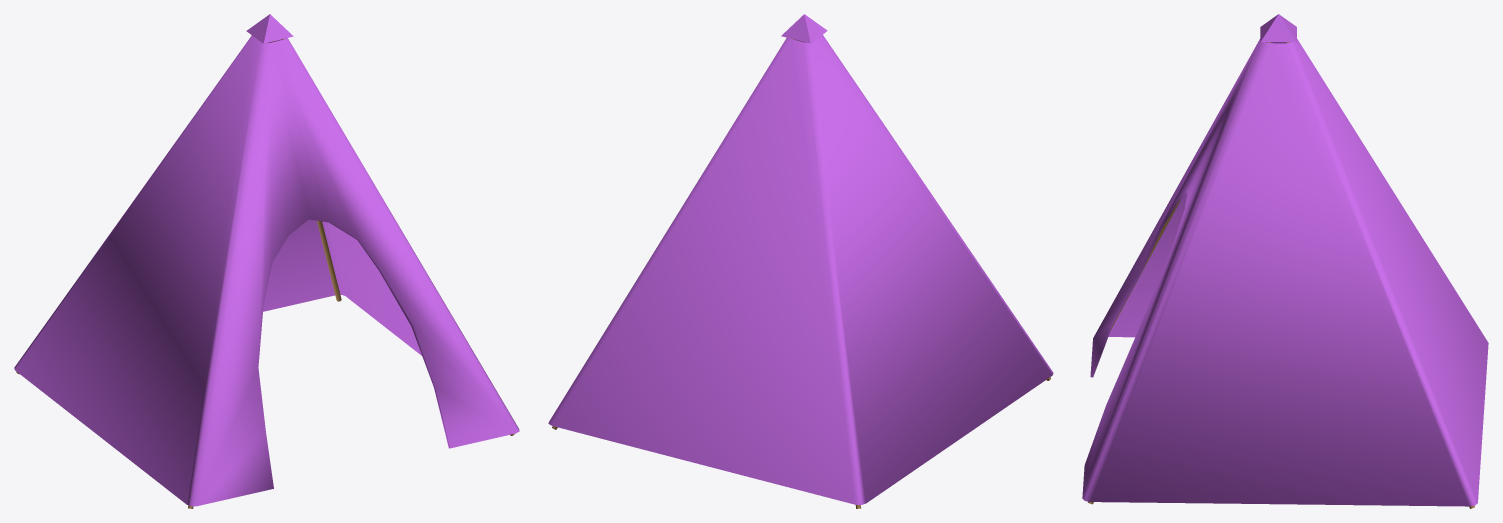
Rendered from Oca.fbx.
3 renders of one model, left to right at view 1: azimuth 30°, elevation 25°; view 2: azimuth 150°, elevation 25°; view 3: azimuth 270°, elevation 25°, orthographic. The views are drawn at different scales.
Visible parts, largest first — view 1: Cone; view 2: Cone; view 3: Cone.
Boxes of the visible parts, box(x1,y1,x2,y2) form: Cone: box(14, 14, 519, 508); Cone: box(548, 14, 1053, 508); Cone: box(1082, 14, 1488, 508).
Size of the model in its own units: 643 by 721 by 643.
